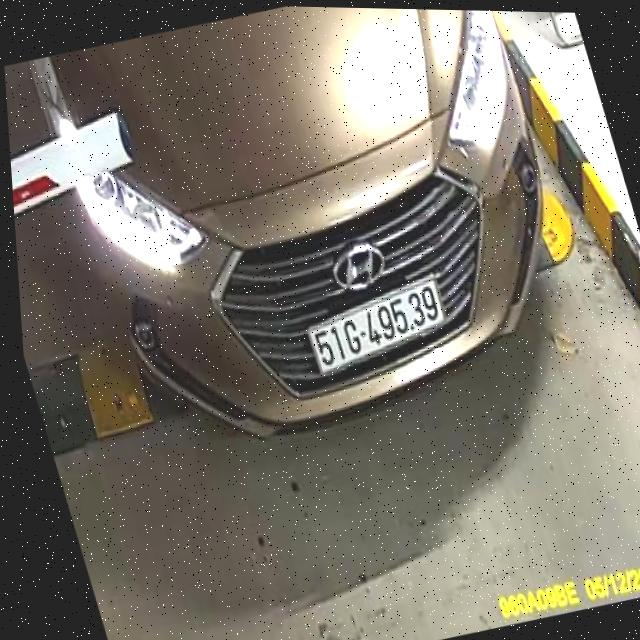car: (4, 0, 632, 487)
plate: (301, 281, 459, 375)
